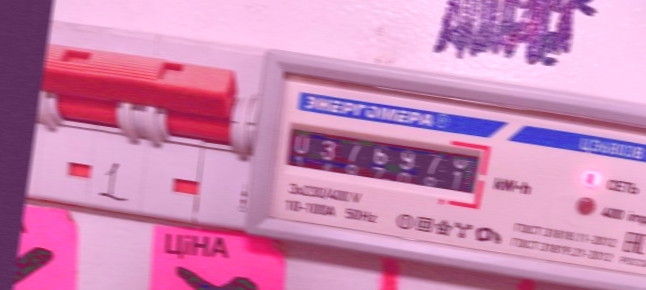0: (291, 132, 309, 156)
1: (449, 169, 461, 192)
3: (319, 139, 335, 162)
6: (371, 142, 389, 167)
7: (424, 151, 441, 176), (345, 140, 362, 164)
9: (397, 148, 414, 172)
screen: (271, 113, 493, 214)
